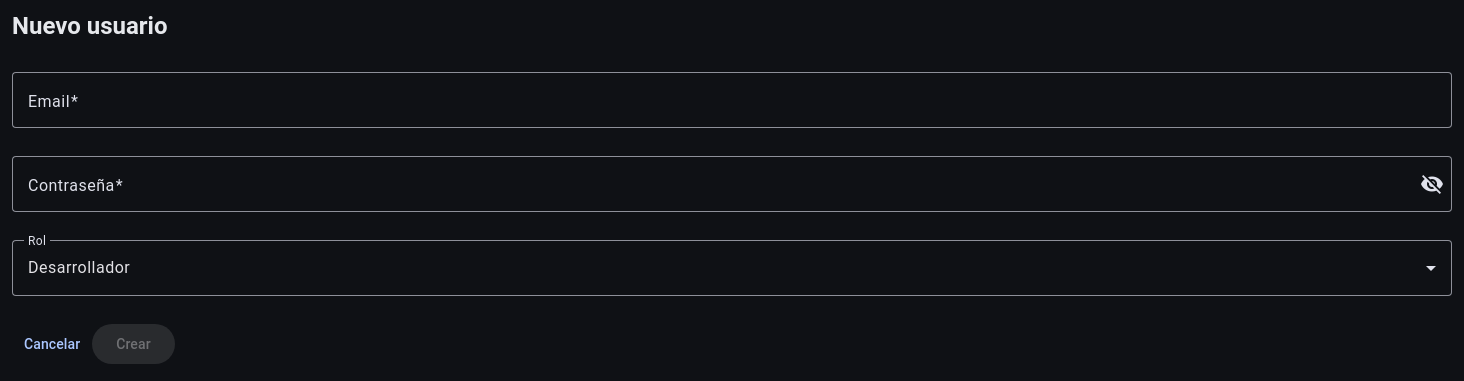
Test: CreateUserDialogComponent › Error 409 — email duplicado › debe mostrar el error "El email ya está en uso" en el campo email
Type "existing@example.com" into the field named "Correo electrónico" at (732, 100), box [28,88,1436,112]
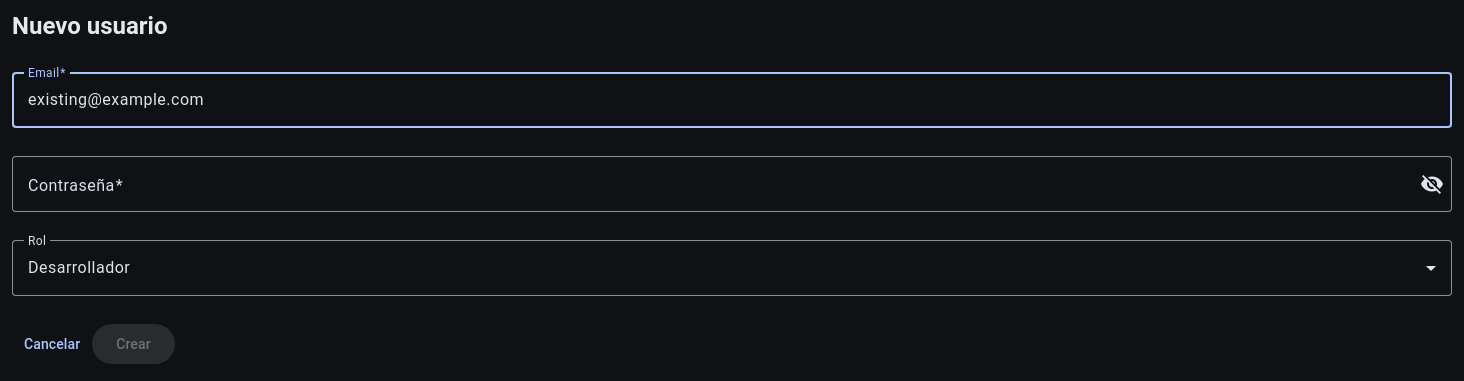
Type "password123" into the password field labelled "Contraseña" at (718, 184), box [28,172,1408,196]
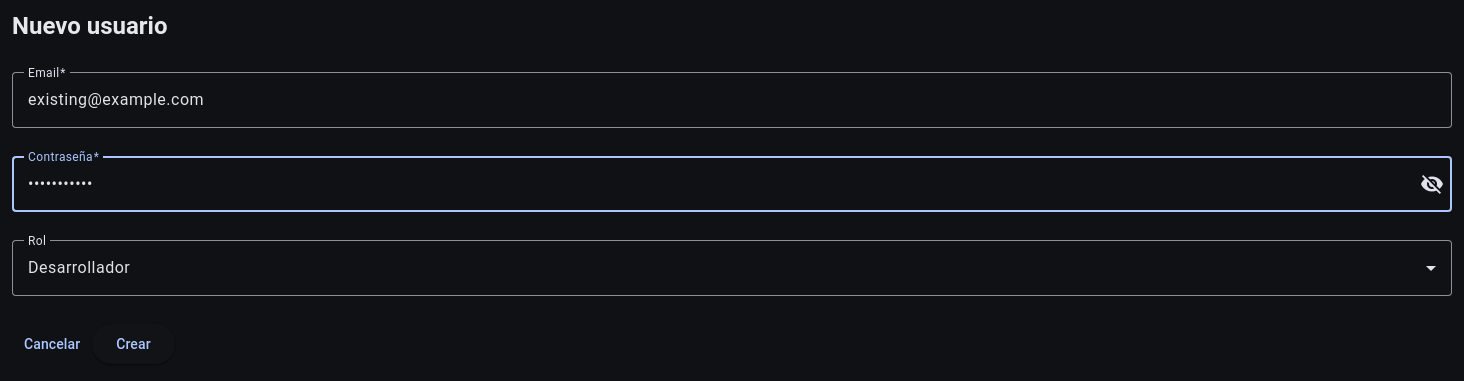
Click the button "Crear" at (133, 344), box [92,324,175,364]
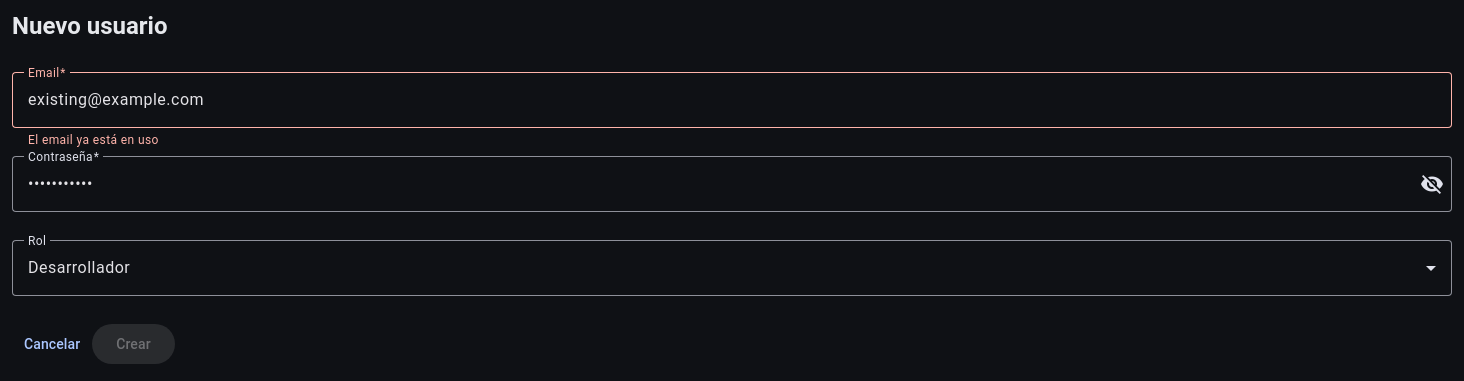
Result: the text "El email ya está en uso" is shown at [28,133,159,147]
